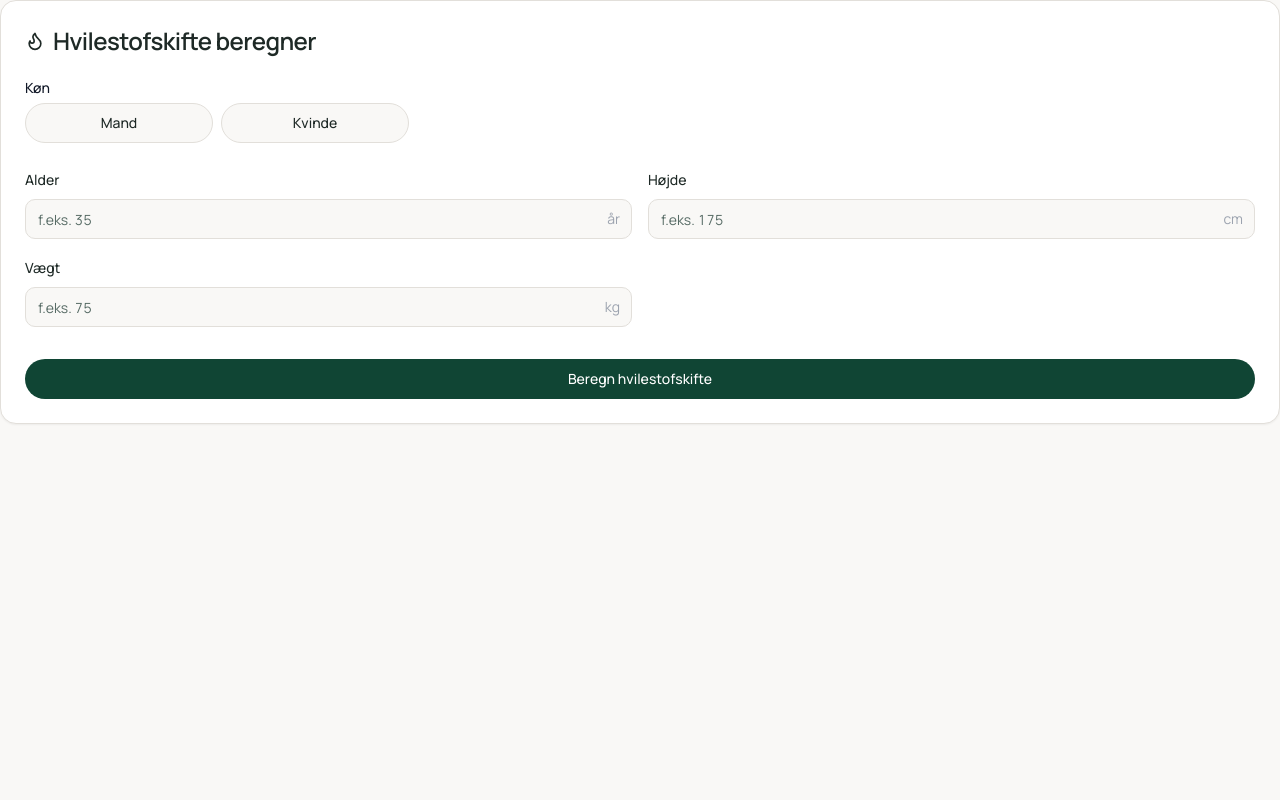
Test: RestingMetabolicRateCalculator › calculates the daily resting metabolism and its conversions
Click the button "Mand". click: (119, 123)
box: [25,103,213,143]
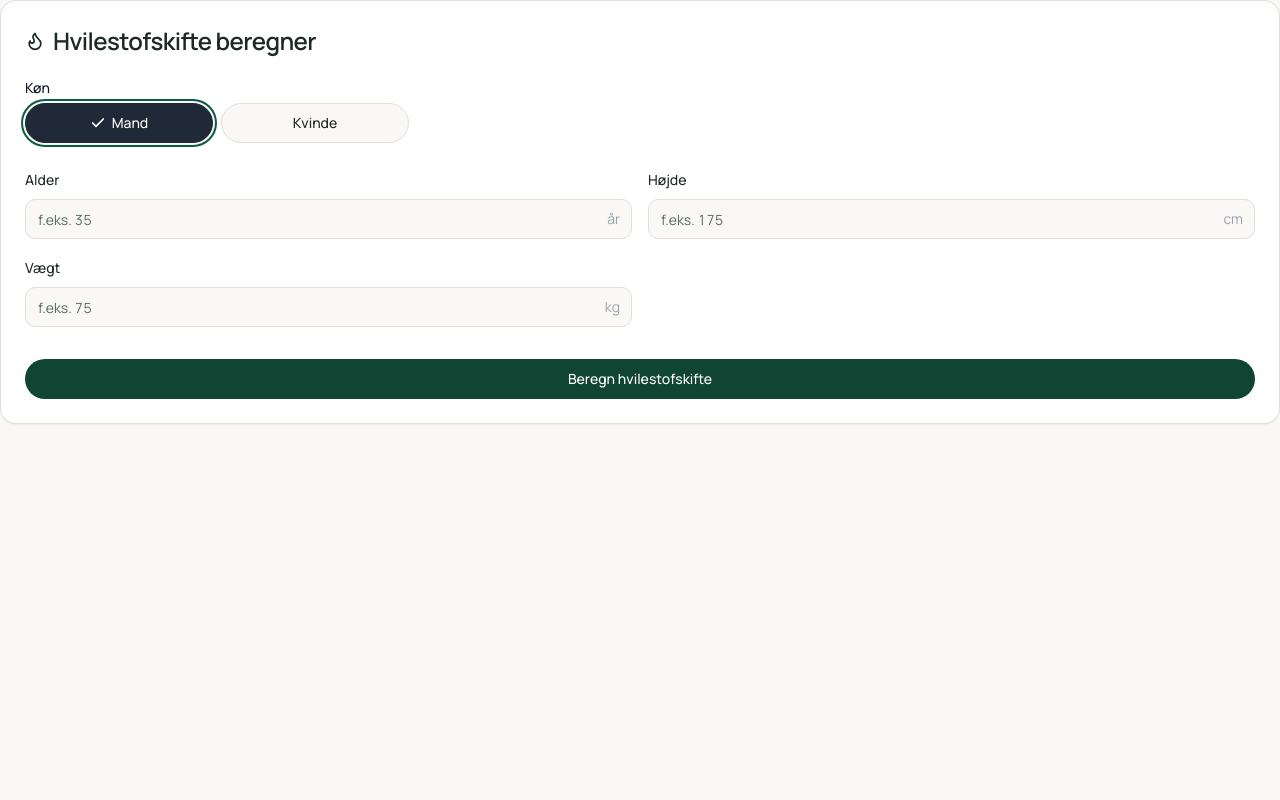
Type "35" into the field labelled "Alder". click: (328, 219)
box: [25,199,632,239]
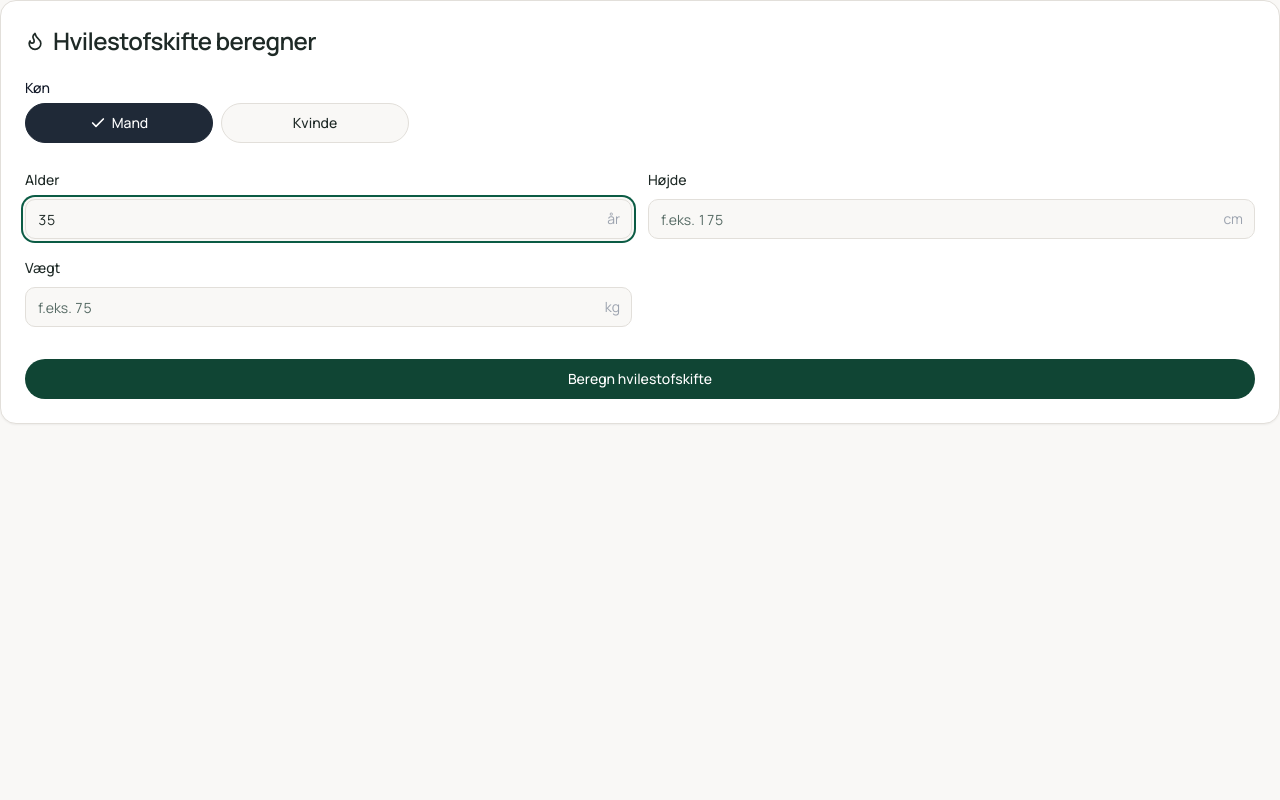
Type "180" into the field labelled "Højde". click: (952, 219)
box: [648,199,1255,239]
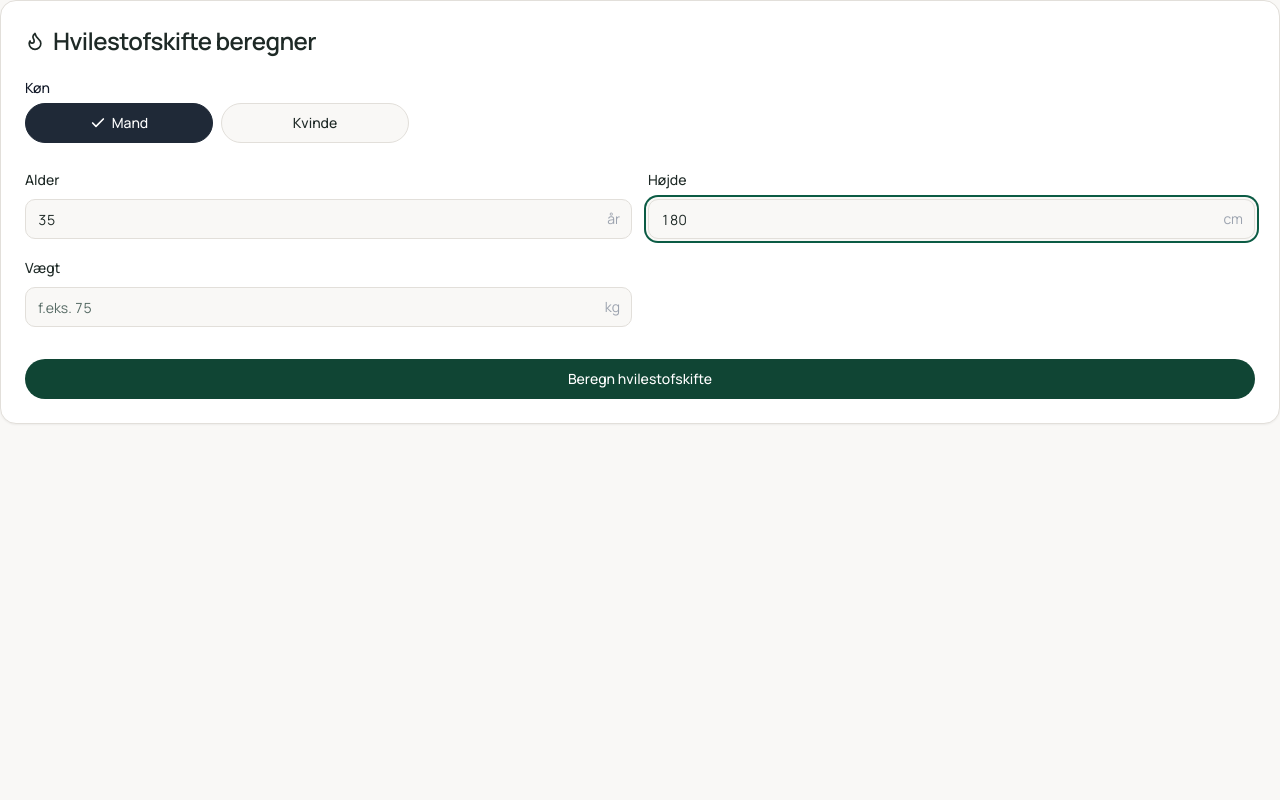
Type "80" into the field labelled "Vægt". click: (328, 307)
box: [25,287,632,327]
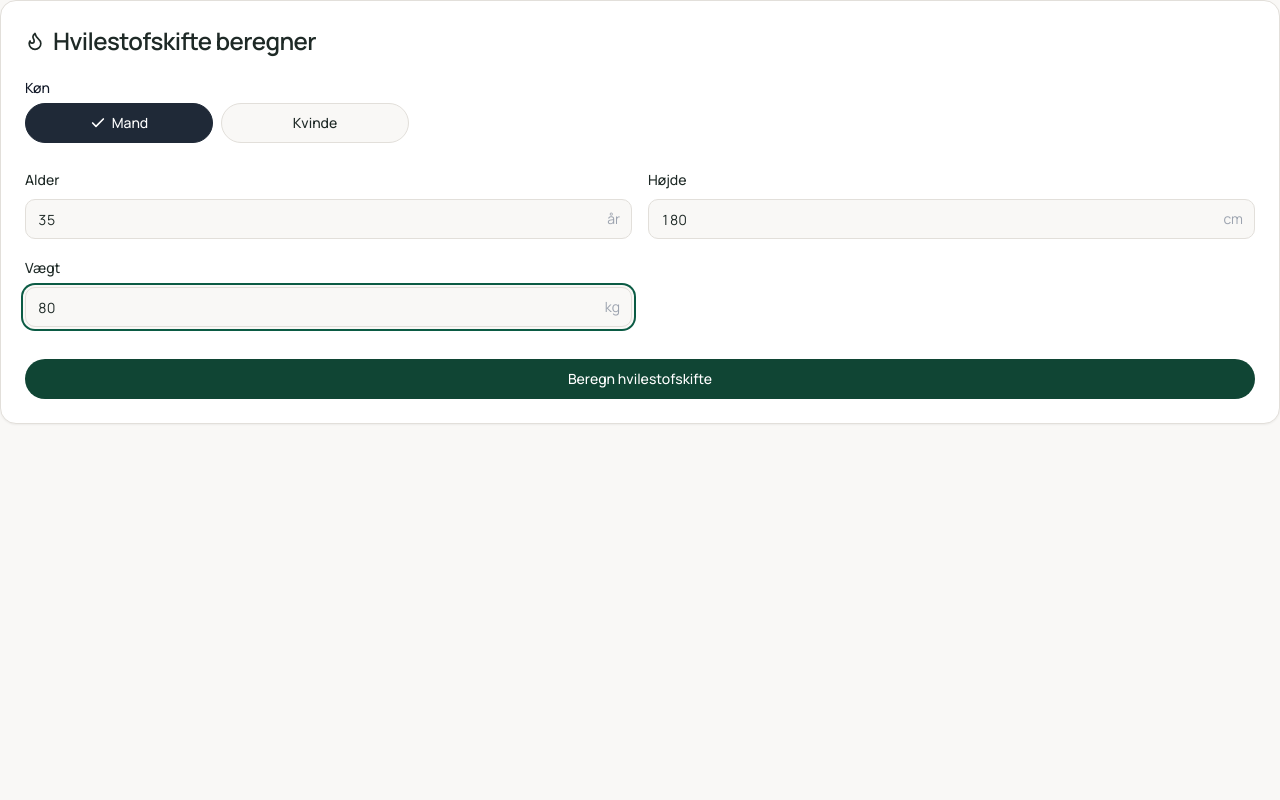
Click the button "Beregn hvilestofskifte". click: (640, 379)
box: [25,359,1255,399]
(page scrolled)
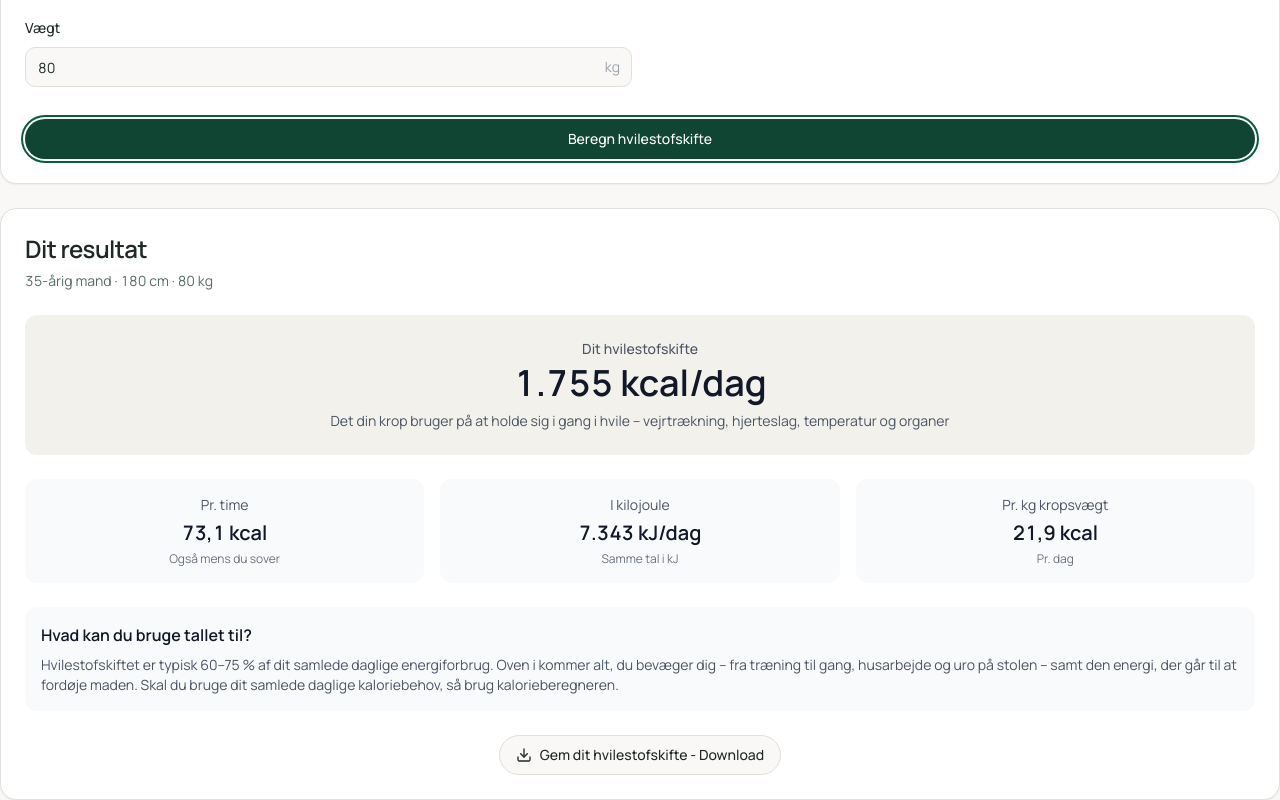
Now the text "1.755 kcal/dag" is shown, box [514,358,767,407]
Now the text "73,1 kcal" is shown, box [182,519,267,546]
Now the text "7.343 kJ/dag" is shown, box [579,519,701,546]
